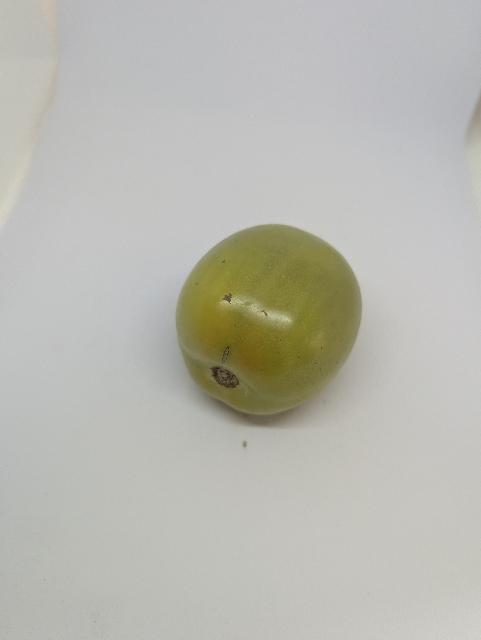breaker: (176, 223, 365, 427)
